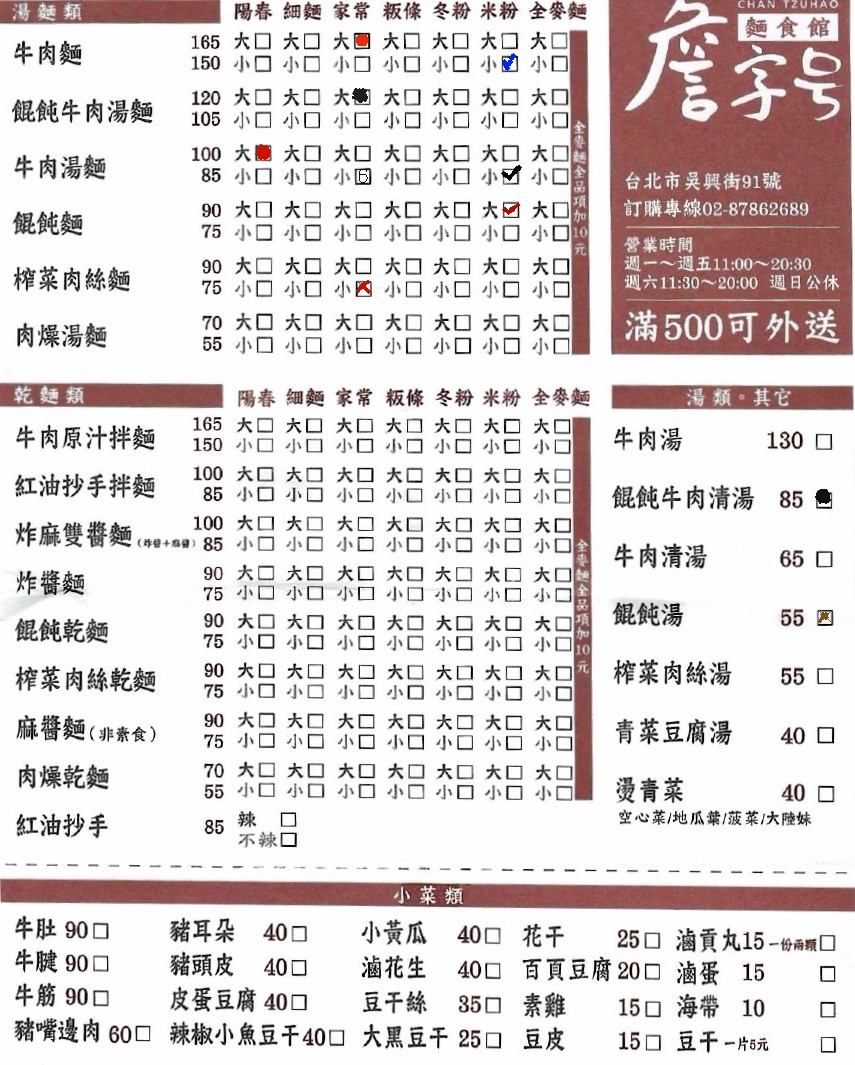marked_circle: (254, 143, 272, 160), (815, 490, 833, 507), (353, 88, 369, 104), (355, 32, 368, 47)
marked_number_6: (354, 167, 372, 184)
marked_tick: (502, 200, 520, 217), (502, 166, 520, 183), (501, 54, 517, 70)
marked_x: (354, 278, 372, 295), (816, 608, 834, 625)
